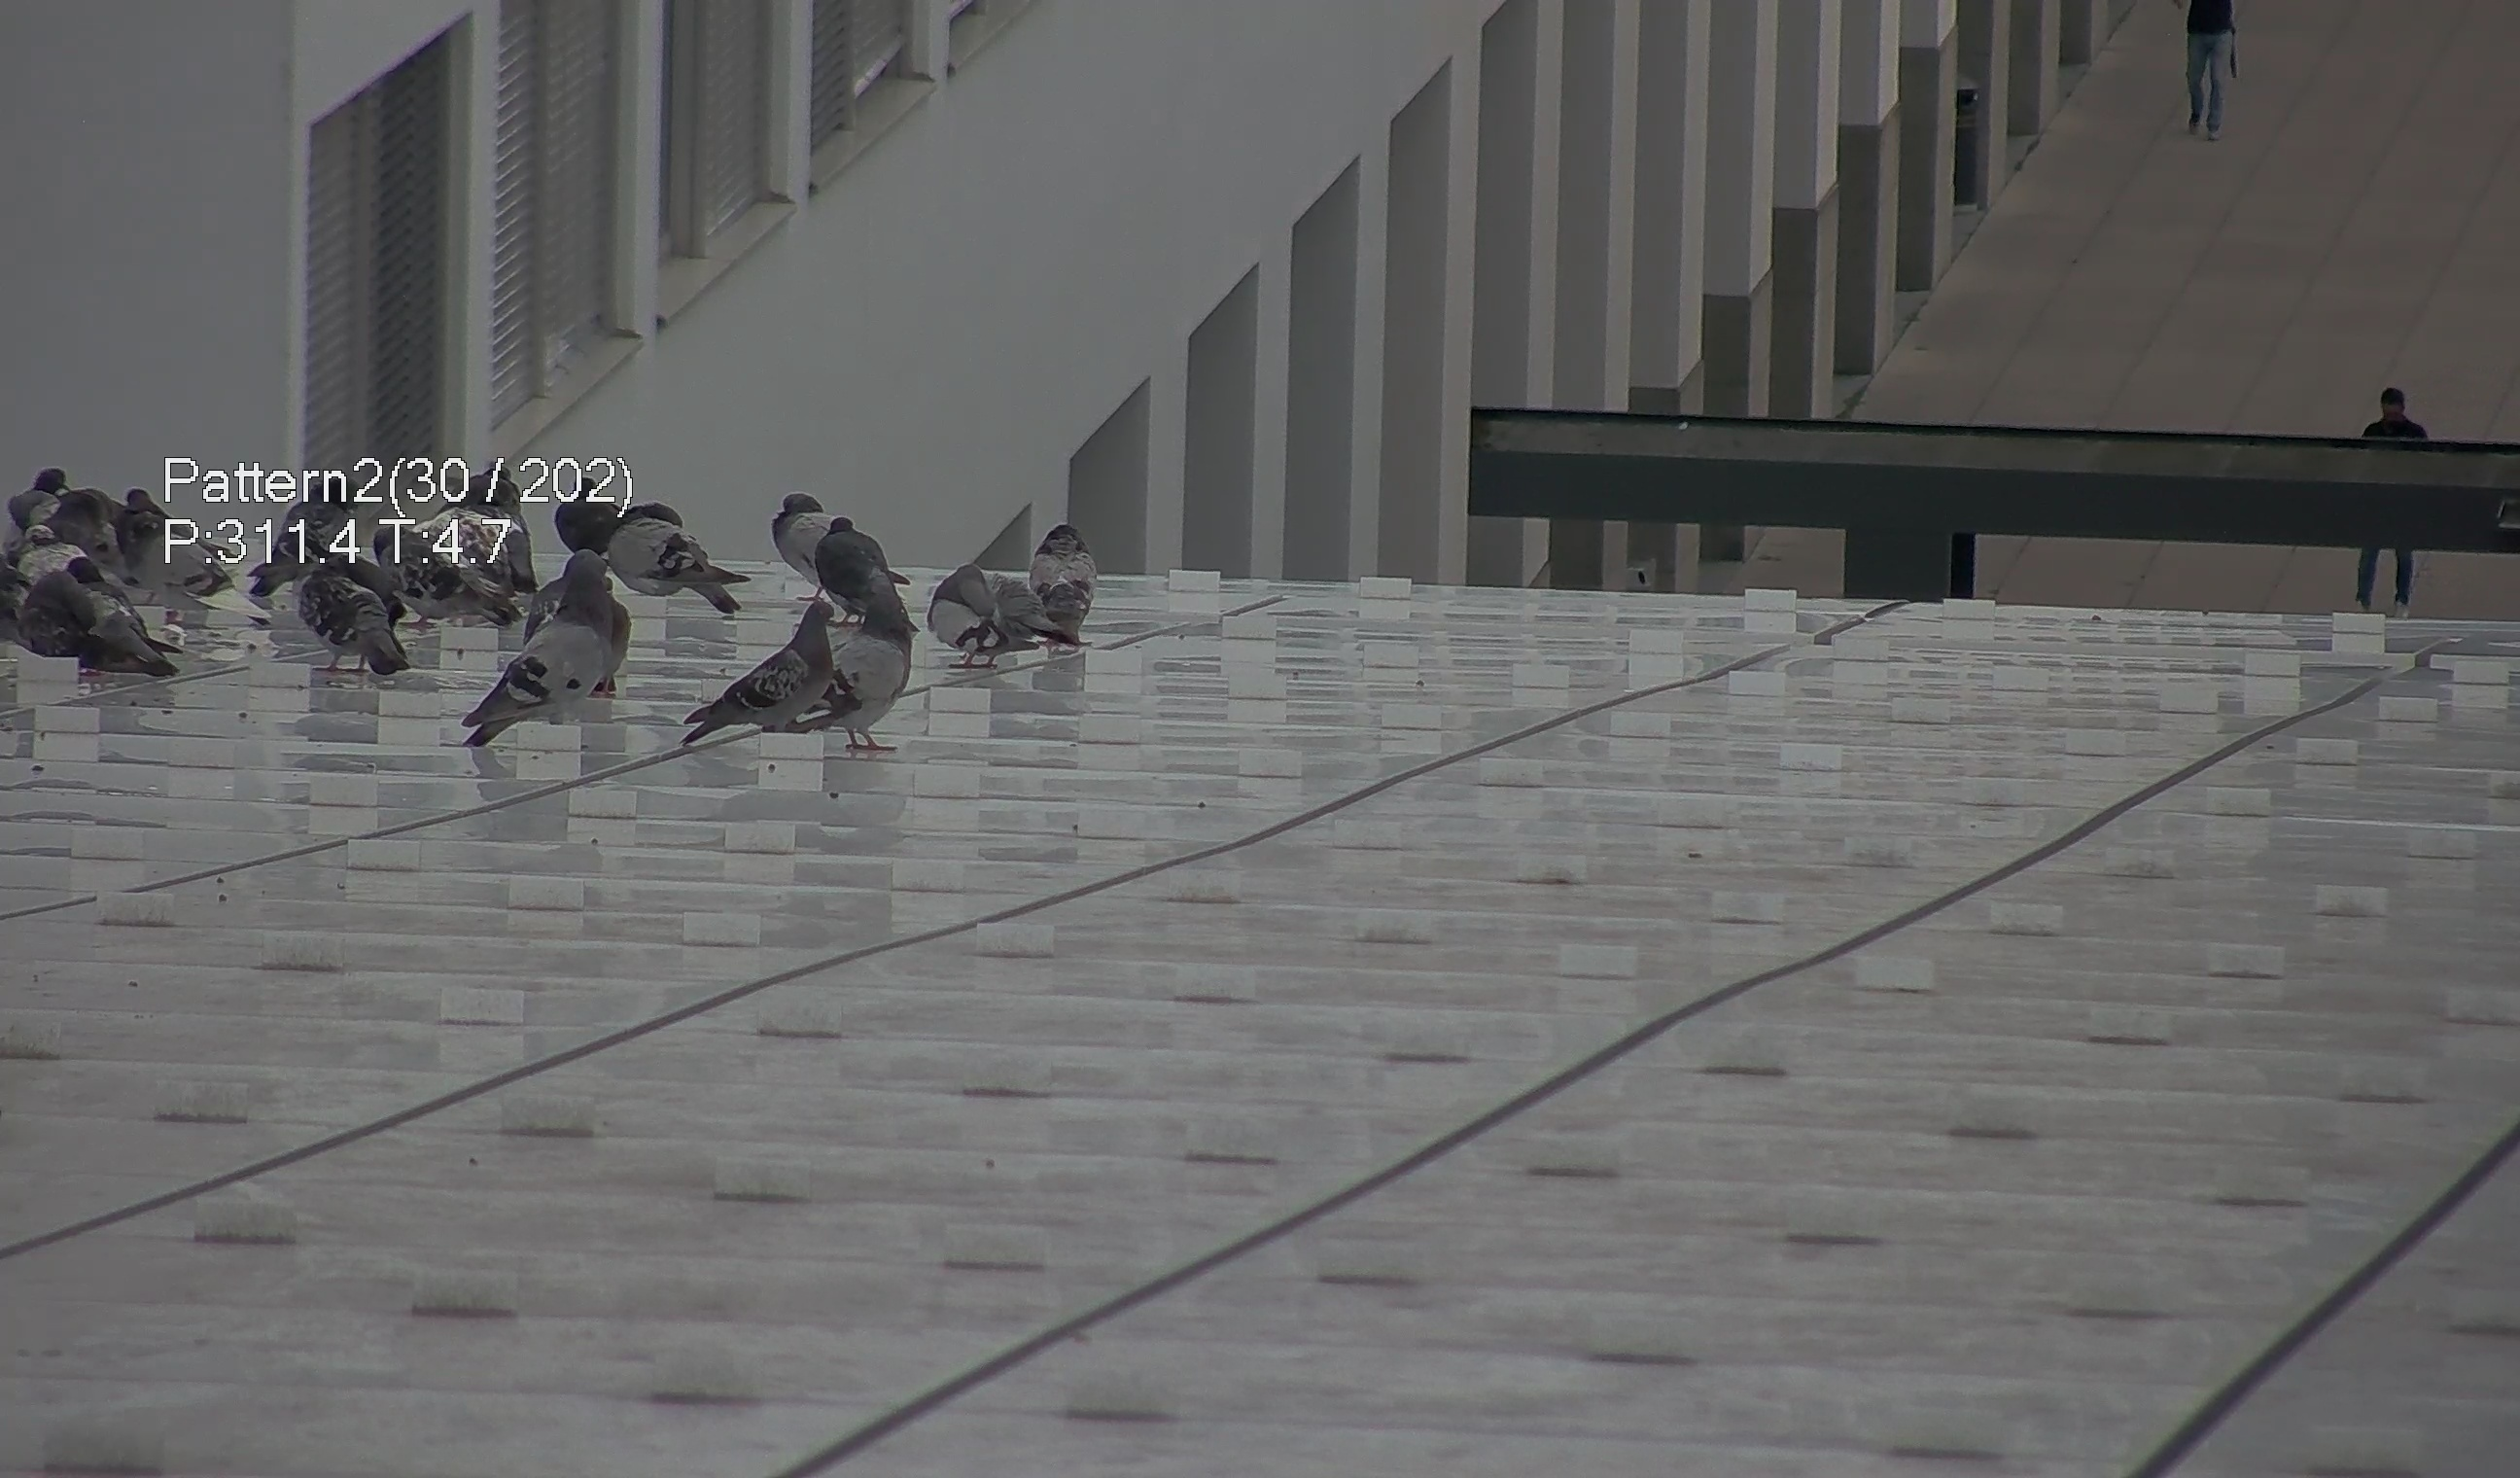Pigeon: (448, 570, 605, 762), (666, 584, 849, 743), (25, 565, 202, 697), (121, 501, 280, 639), (271, 542, 417, 684), (594, 496, 742, 623), (918, 544, 1057, 662), (819, 598, 920, 755), (1023, 507, 1111, 649), (797, 517, 913, 605), (761, 486, 823, 577), (559, 477, 619, 558), (28, 454, 83, 493)
